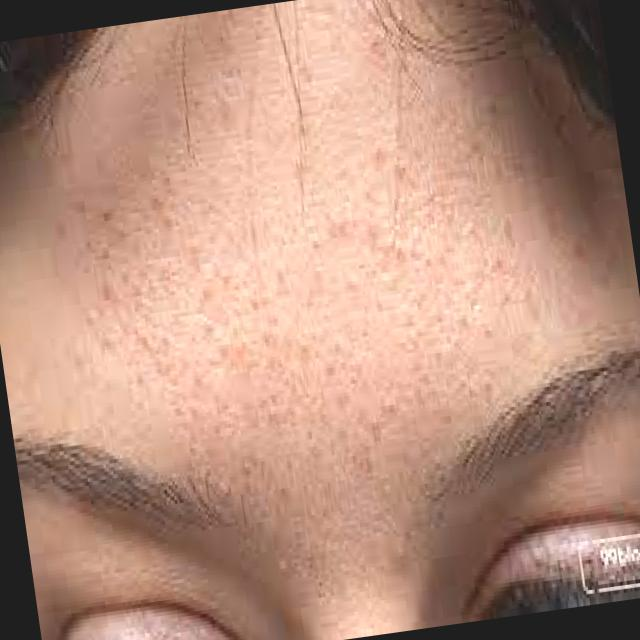fungal: (38, 72, 550, 562)
